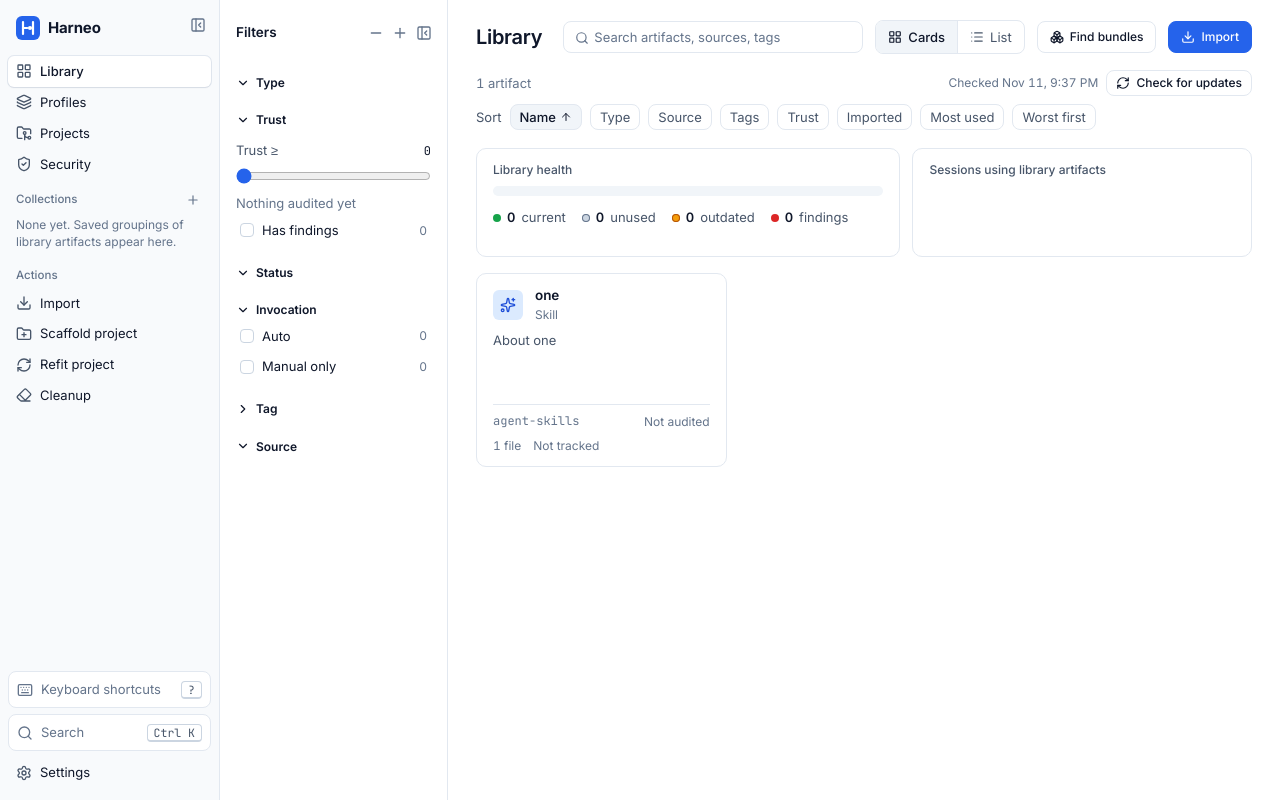
Test: routing › sidebar entry Profiles routes to its screen
Click the link "Profiles": (51, 102) [16,94,86,110]
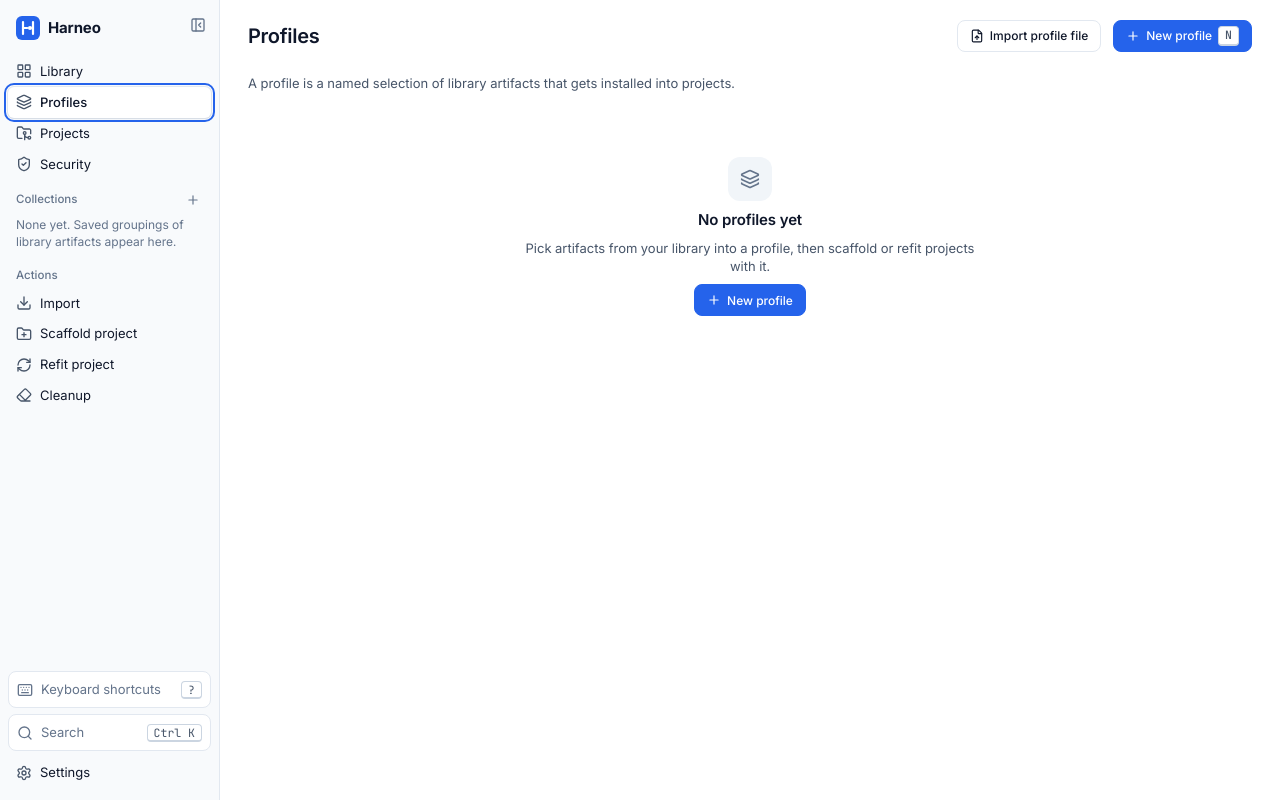
Expected: the heading "Profiles" is shown, [248,22,319,50]
